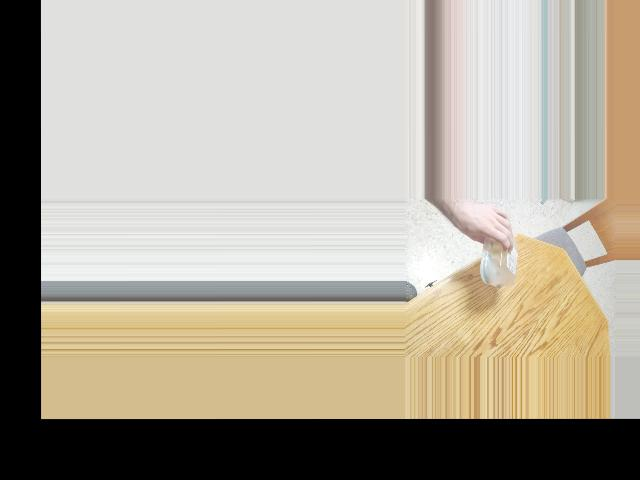cheese: (456, 232, 530, 286)
